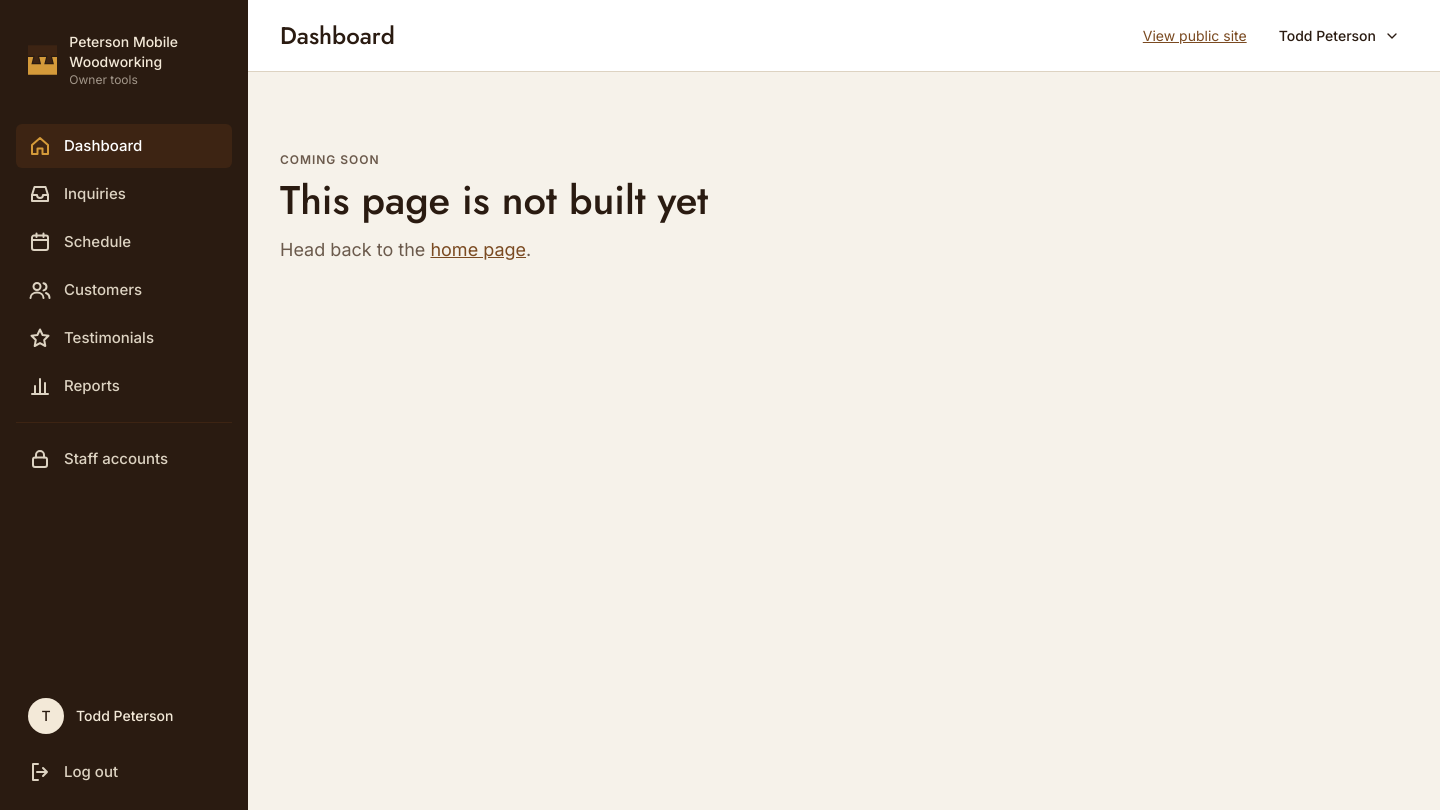
Portal account logout with shared auth and route guards › opens confirmation without signing out and Cancel preserves the route and session
Click the button with aria-label "Account menu for" at (1339, 36), box x1=1271 y1=14 x2=1408 y2=58
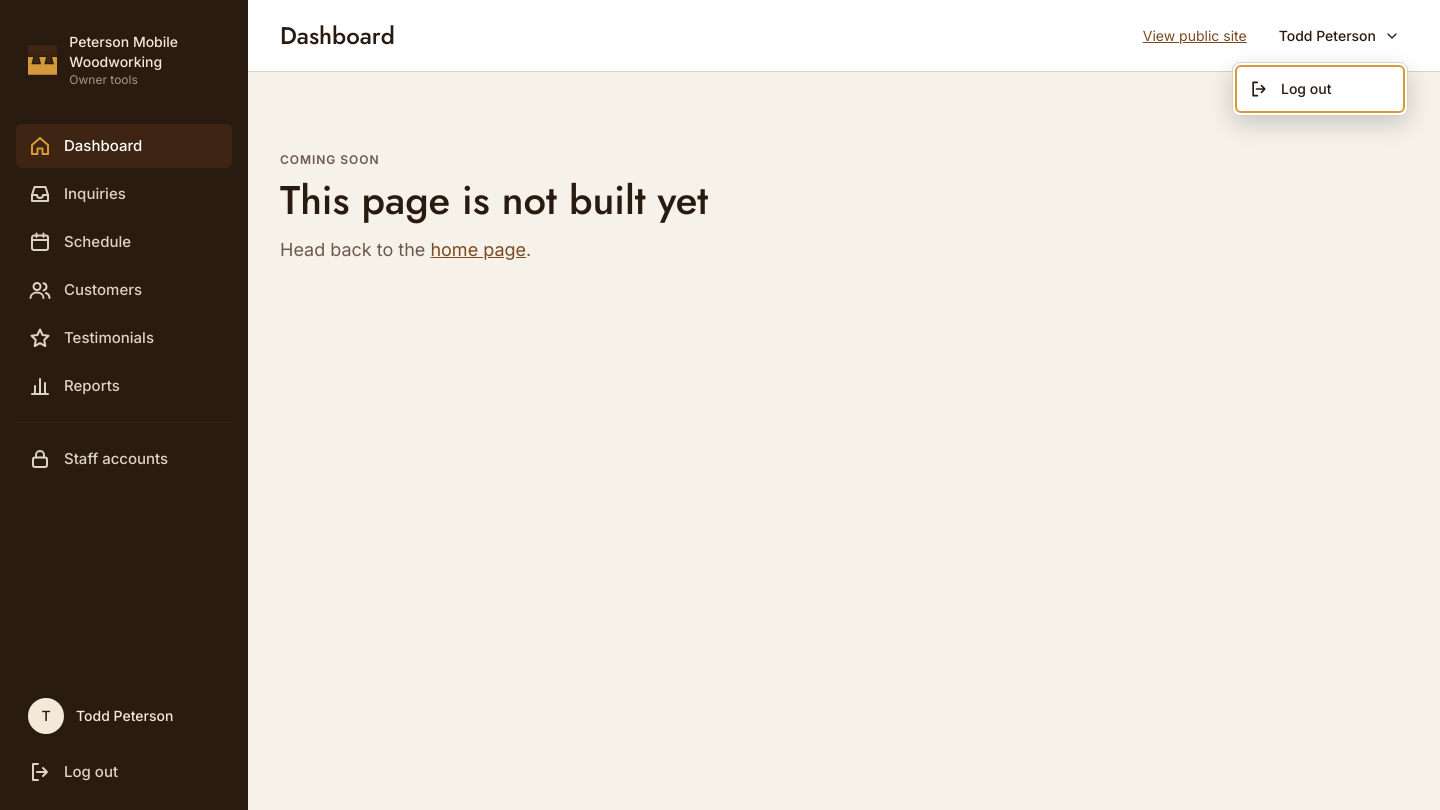
Click the menu item "Log out" at (1320, 88), box x1=1237 y1=66 x2=1403 y2=110
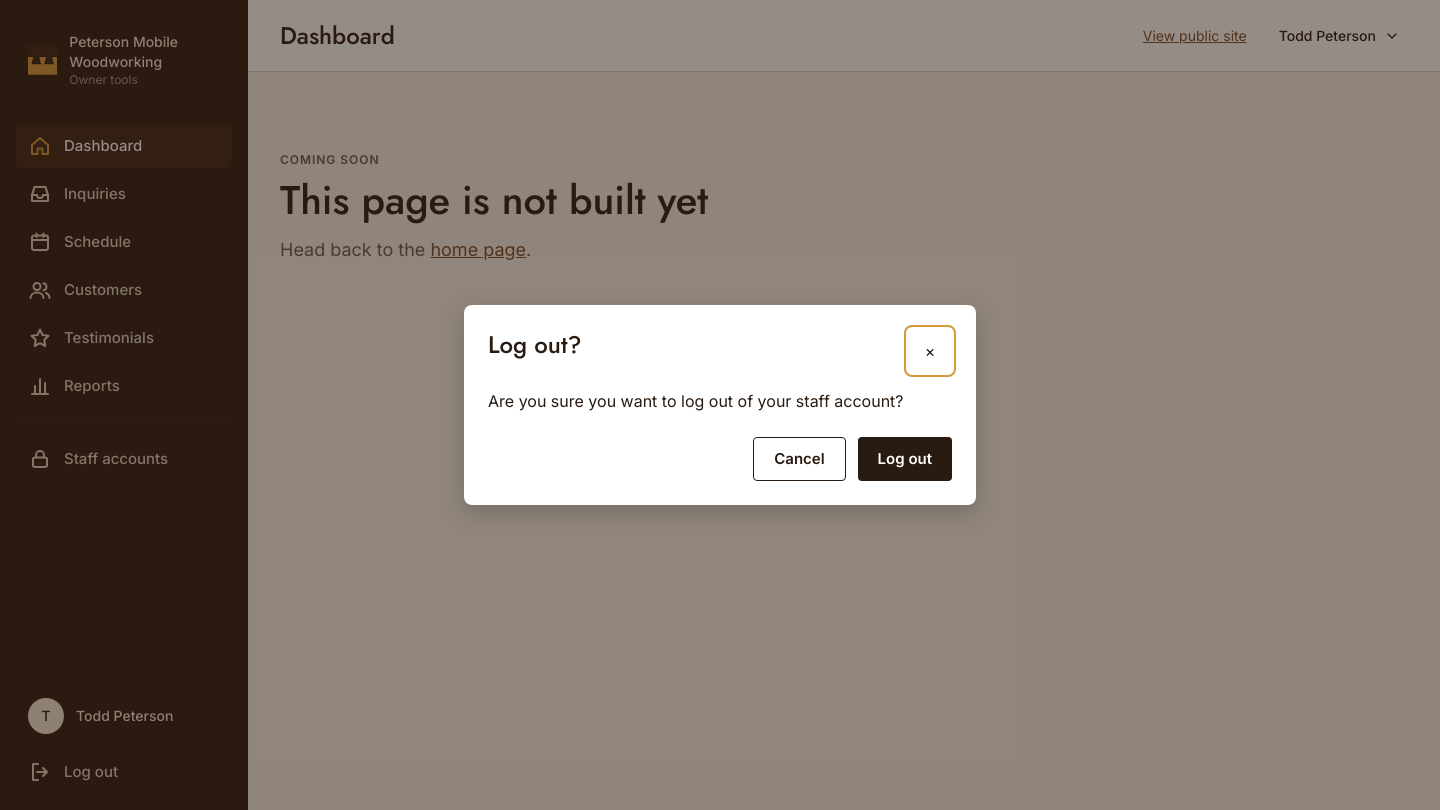
Click the button "Cancel" at (799, 459), box x1=753 y1=437 x2=846 y2=481
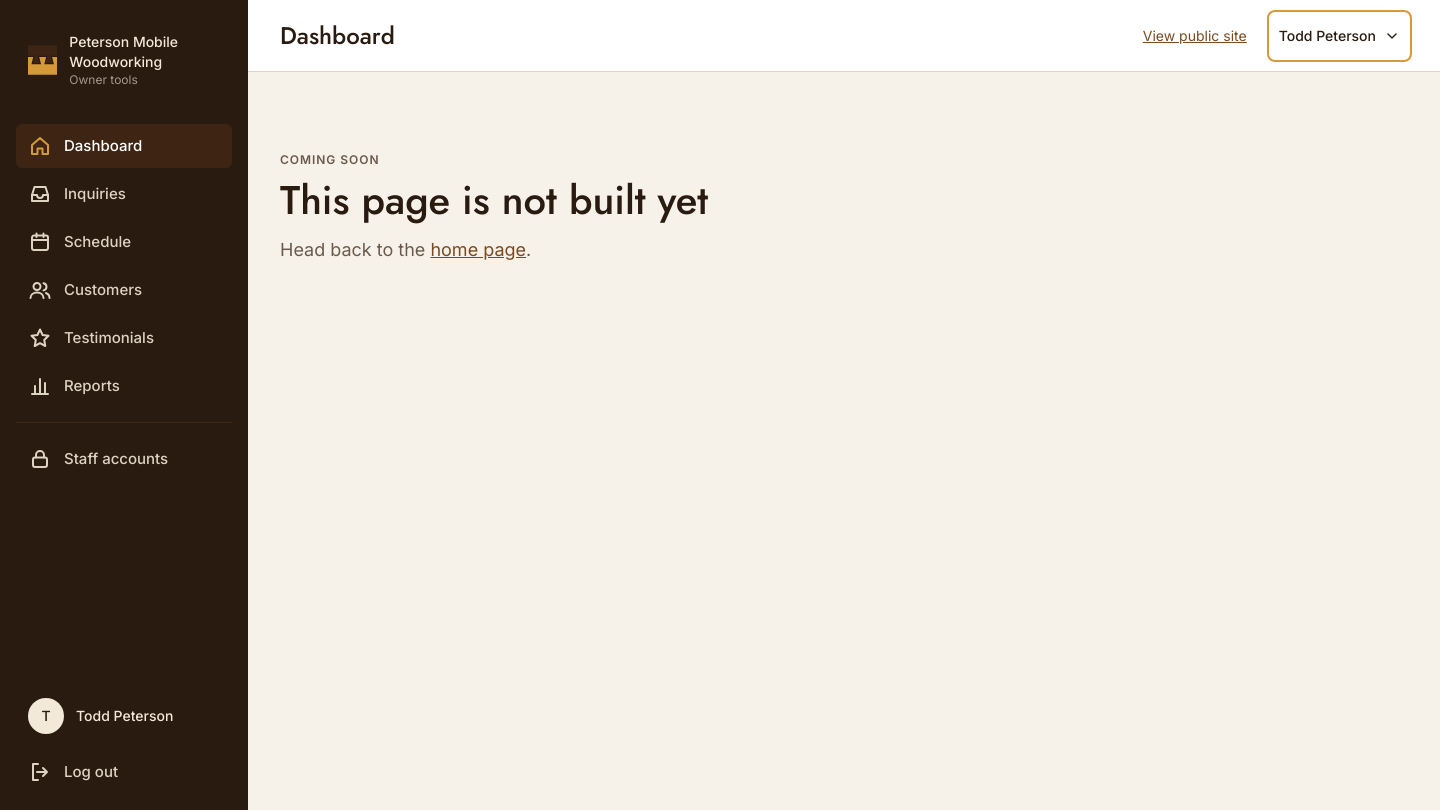
Expected: the navigation bar named "Portal" is shown, x1=0 y1=108 x2=248 y2=497
Result: the dialog is gone
